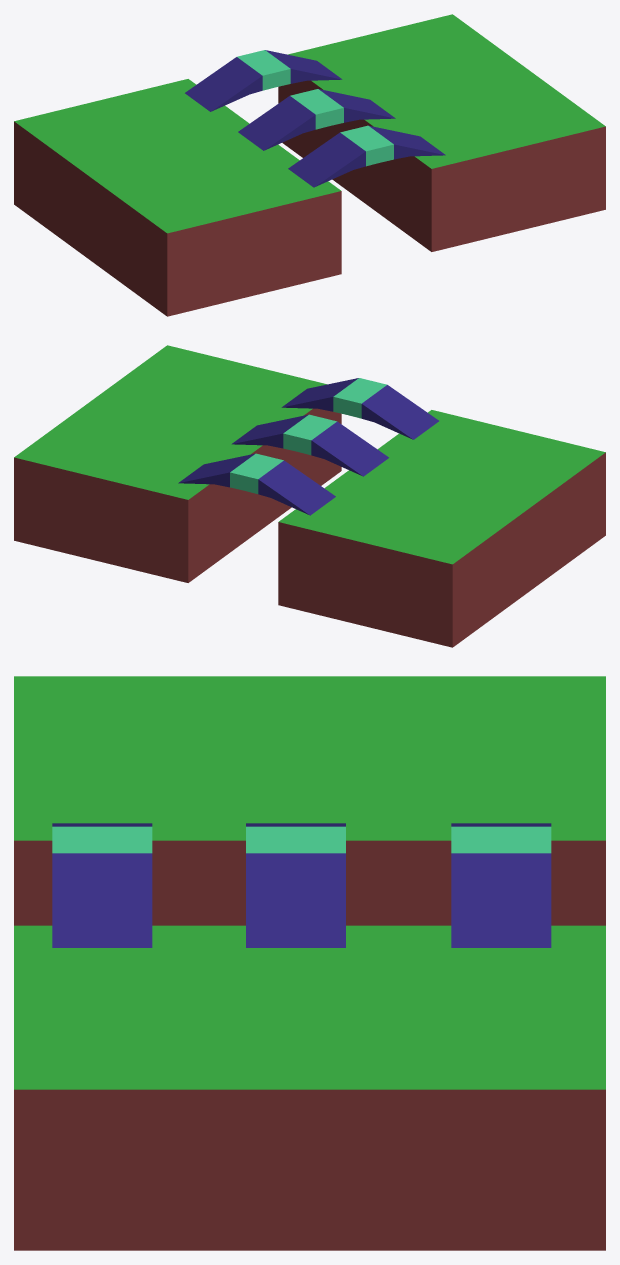
The model's file is Bridge.FBX.
The picture shows the model from 3 angles, top to bottom: view 1: azimuth 30°, elevation 25°; view 2: azimuth 150°, elevation 25°; view 3: azimuth 270°, elevation 25°; orthographic projection. The views are drawn at different scales.
Parts seen in each view (by area): view 1: Box003; view 2: Box003; view 3: Box003.
Boxes of the visible parts, bbox=[...] form: Box003: bbox=[14, 14, 605, 316]; Box003: bbox=[14, 345, 605, 647]; Box003: bbox=[14, 676, 605, 1250].
Size of the model in its own units: 2762 by 1672 by 645.
